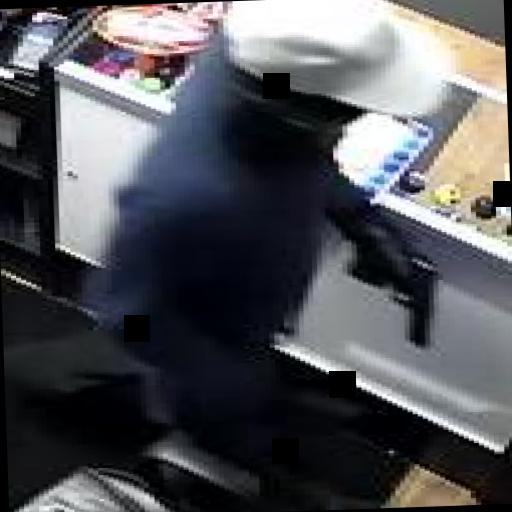Handgun: (346, 246, 440, 352)
